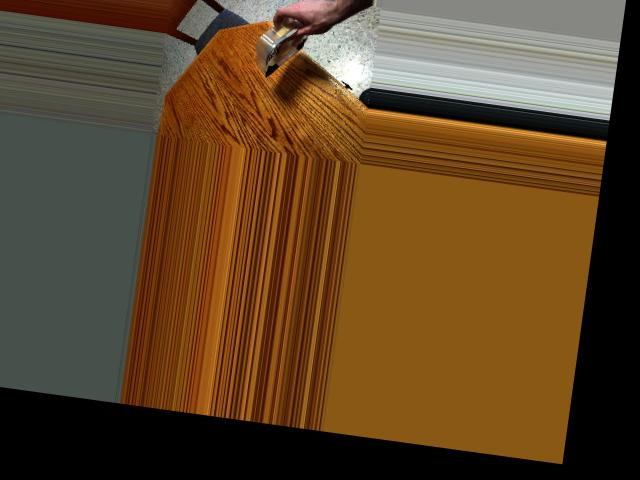cheese: (239, 10, 318, 75)
